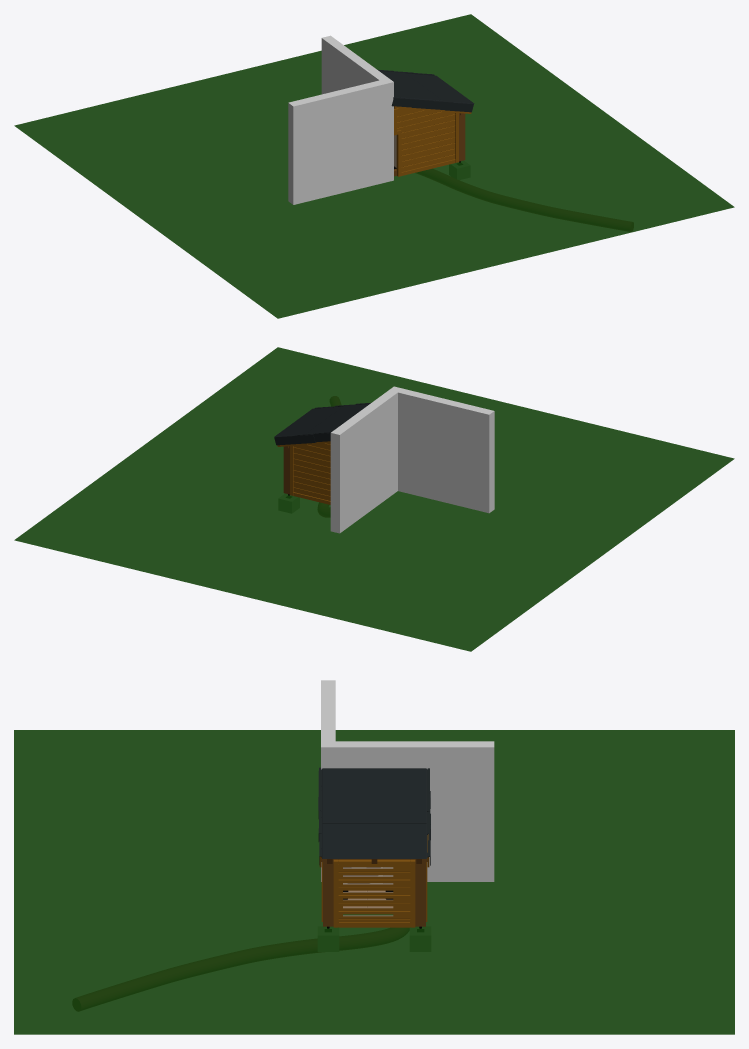
The model's file is Matthieu-abri.glb.
3 renders of one model, top to bottom at view 1: azimuth 30°, elevation 25°; view 2: azimuth 150°, elevation 25°; view 3: azimuth 270°, elevation 25°, orthographic. The views are drawn at different scales.
Visible parts, largest first — view 1: Grass, Wall, 120x22 - Panneau_cote_mur.000, Tuiles, 120x22 - Panneau_cote_mur.001, Rives; view 2: Grass, Wall, 120x22 - Panneau_cote_mur.000, Tuiles, Rives, 120x22 - Panneau_cote_mur.001; view 3: Grass, Wall, Tuiles, 120x22 - Panneau_avant_mur.000, 150x150 - Piliers, 70x70 - Panneau_avant_poteau.000, Rives.
Boxes of the visible parts, left/top/right/bottom form: Grass: left=14, top=14, right=734, bottom=318; Wall: left=288, top=35, right=393, bottom=204; 120x22 - Panneau_cote_mur.000: left=401, top=120, right=455, bottom=171; Tuiles: left=379, top=71, right=474, bottom=103; 120x22 - Panneau_cote_mur.001: left=397, top=109, right=455, bottom=132; Rives: left=377, top=69, right=473, bottom=112; Grass: left=14, top=347, right=734, bottom=651; Wall: left=330, top=386, right=494, bottom=533; 120x22 - Panneau_cote_mur.000: left=293, top=453, right=330, bottom=500; Tuiles: left=274, top=404, right=369, bottom=436; Rives: left=274, top=402, right=371, bottom=445; 120x22 - Panneau_cote_mur.001: left=293, top=443, right=330, bottom=461; Grass: left=14, top=730, right=734, bottom=1034; Wall: left=321, top=680, right=494, bottom=881; Tuiles: left=322, top=768, right=426, bottom=858; 120x22 - Panneau_avant_mur.000: left=338, top=864, right=410, bottom=926; 150x150 - Piliers: left=323, top=859, right=425, bottom=926; 70x70 - Panneau_avant_poteau.000: left=333, top=859, right=415, bottom=927; Rives: left=318, top=767, right=430, bottom=865.
Size of the model in its own units: 1000 by 252 by 1000.
Materials: 4 (3 with a texture image).
